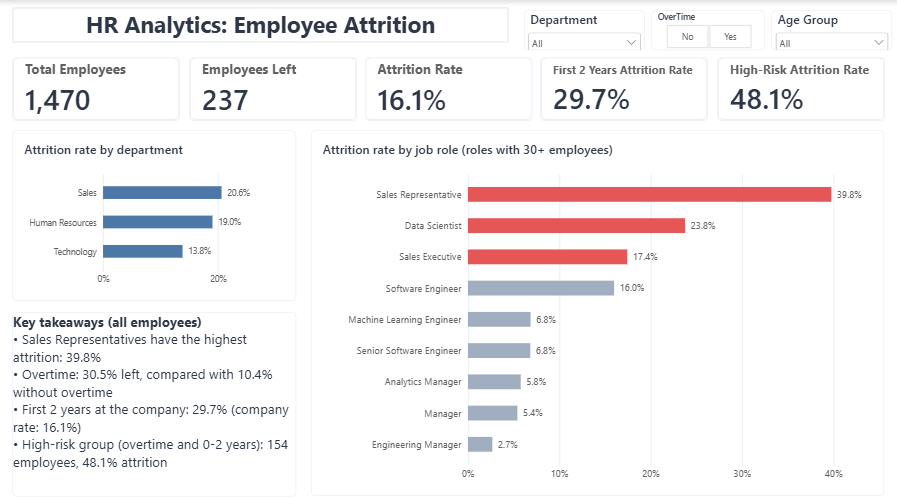

This screenshot's page, from the dashboard's own definition file:
{"tool":"powerbi","page":{"name":"Overview","canvas":[1920,1080],"ordinal":0},"visuals":[{"type":"textbox","box":[20,10,700,50],"z":0},{"type":"cardVisual","fields":{"Data":["Employee.Total Employees"]},"box":[20,80,236,90],"z":1000},{"type":"cardVisual","fields":{"Data":["Employee.High-Risk Attrition Rate"]},"box":[1012,80,236,90],"z":2000},{"type":"cardVisual","title":"First 2 Years Attrition","fields":{"Data":["Employee.First 2 Years Attrition Rate"]},"box":[764,80,236,90],"z":3000},{"type":"cardVisual","fields":{"Data":["Employee.Attrition Rate"]},"box":[516,80,236,90],"z":4000},{"type":"cardVisual","fields":{"Data":["Employee.Employees Left"]},"box":[268,80,236,90],"z":5000},{"type":"clusteredBarChart","title":"Attrition rate by department","fields":{"Category":["Employee.Department"],"Y":["Employee.Attrition Rate"]},"box":[20,185,400,240],"z":6000},{"type":"clusteredBarChart","title":"Attrition rate by job role (roles with 30+ employees)","fields":{"Category":["Employee.JobRole"],"Y":["Employee.Attrition Rate"]},"box":[440,185,808,515],"z":7000},{"type":"slicer","fields":{"Values":["Employee.Department"]},"box":[740,14,170,56],"z":8000},{"type":"slicer","fields":{"Values":["Employee.OverTime"]},"box":[920,14,160,56],"z":9000},{"type":"slicer","fields":{"Values":["Employee.Age Group"]},"box":[1090,14,170,56],"z":10000},{"type":"textbox","box":[20,440,400,260],"z":11000}]}

Visuals, with their boxes in screenshot pixels (x1, y1, x2, y2), scaled from the page's 1920x1080 canvas onto the 897x504 screenshot:
textbox: [left=9, top=5, right=336, bottom=28]
cardVisual - Employee.Total Employees: [left=9, top=37, right=120, bottom=79]
cardVisual - Employee.High-Risk Attrition Rate: [left=473, top=37, right=583, bottom=79]
"First 2 Years Attrition" cardVisual: [left=357, top=37, right=467, bottom=79]
cardVisual - Employee.Attrition Rate: [left=241, top=37, right=351, bottom=79]
cardVisual - Employee.Employees Left: [left=125, top=37, right=235, bottom=79]
"Attrition rate by department" clusteredBarChart: [left=9, top=86, right=196, bottom=198]
"Attrition rate by job role (roles with 30+ employees)" clusteredBarChart: [left=206, top=86, right=583, bottom=327]
slicer - Employee.Department: [left=346, top=7, right=425, bottom=33]
slicer - Employee.OverTime: [left=430, top=7, right=505, bottom=33]
slicer - Employee.Age Group: [left=509, top=7, right=589, bottom=33]
textbox: [left=9, top=205, right=196, bottom=327]
